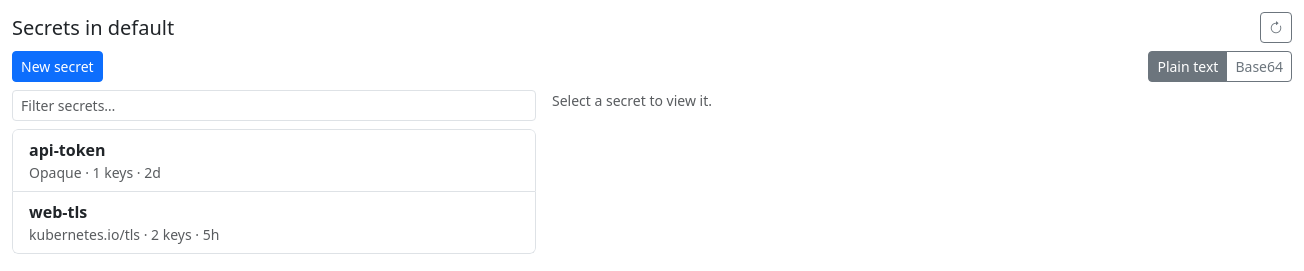
Scenario: SecretList — list rendering › filters options by name
Type "tls" into the search field with id "secret-filter".
click(274, 106); type("tls")  # box [12,90,536,121]
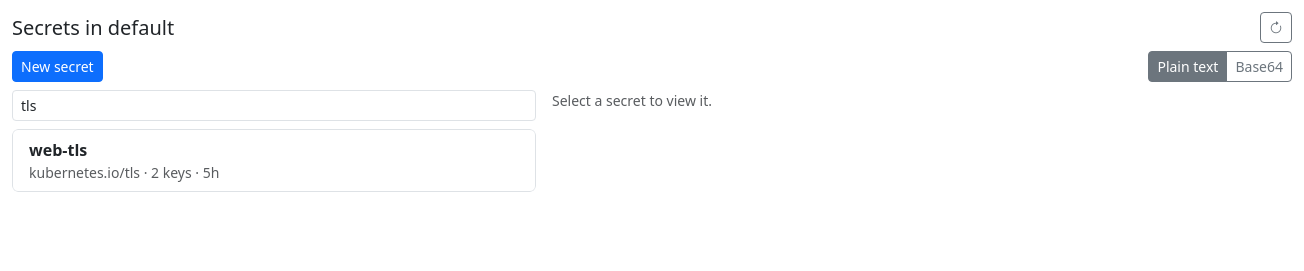
Expected: the text "web-tls" is shown, [29,139,87,161]
Result: the number of options is 1 at [12,129,536,192]
